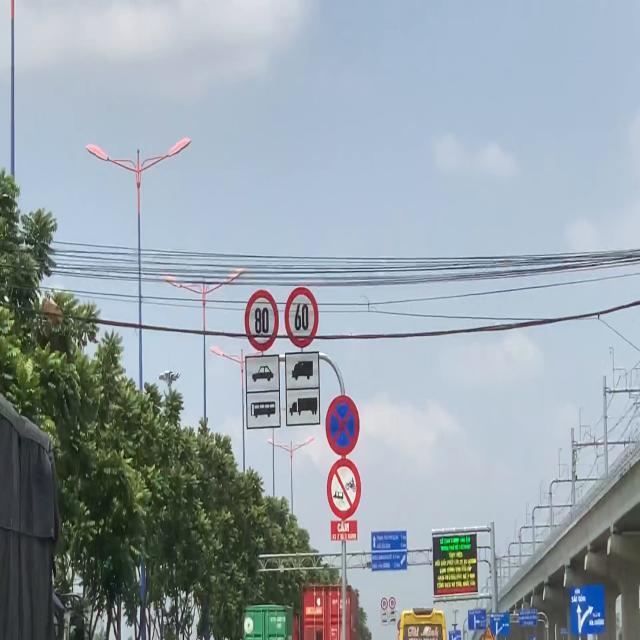Cam con lai: (327, 457, 362, 521)
Cam dung va do: (324, 393, 361, 458)
Toc do toi da: (244, 287, 280, 354), (283, 284, 320, 349)
